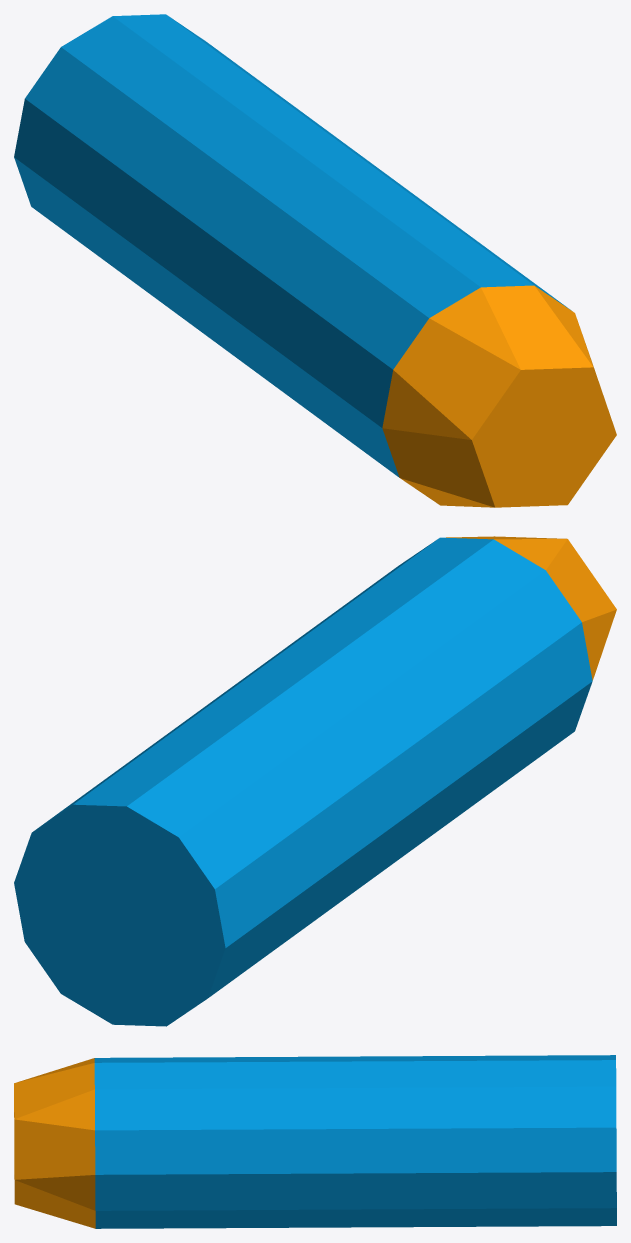
Rendered from nerf_dart_low_poly.glb.
The picture shows the model from 3 angles, top to bottom: view 1: azimuth 30°, elevation 25°; view 2: azimuth 150°, elevation 25°; view 3: azimuth 270°, elevation 25°; orthographic projection. The views are drawn at different scales.
Visible parts, largest first — view 1: NerfDart; view 2: NerfDart; view 3: NerfDart.
Boxes of the visible parts, x1,y1,x2,y2 form: NerfDart: [14, 14, 616, 507]; NerfDart: [14, 536, 616, 1026]; NerfDart: [14, 1055, 616, 1228].
Bounding box in the file's own units: 0.053 × 0.0534 × 0.1839.
